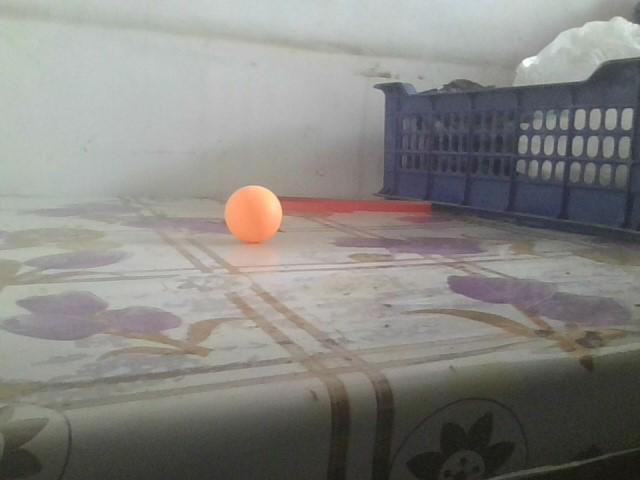ball: (225, 187, 280, 242)
